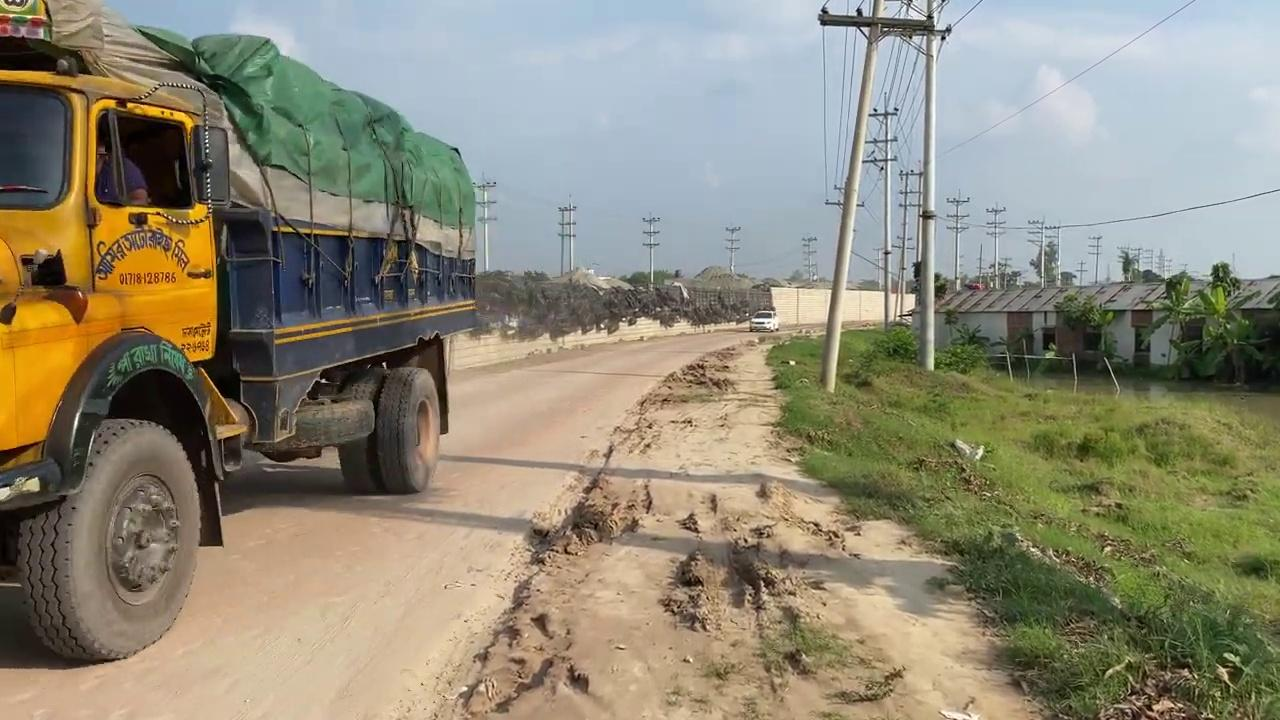Car: (749, 309, 779, 332)
Pole: (916, 1, 938, 372)
Rickshaw: (452, 330, 1043, 718)
Tree: (0, 0, 480, 664)
